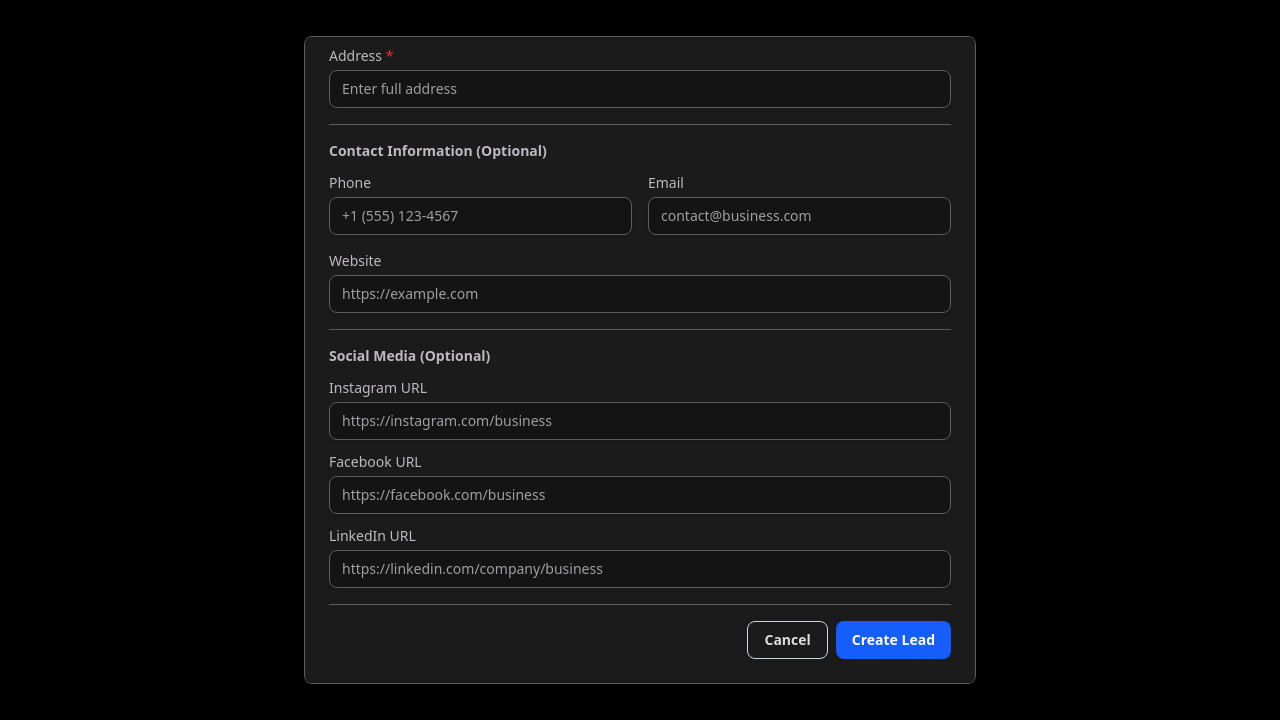
ManualLeadForm › should validate required fields
(page scrolled)
Click the button "Create Lead" at x=893, y=640, box [836,621,951,659]
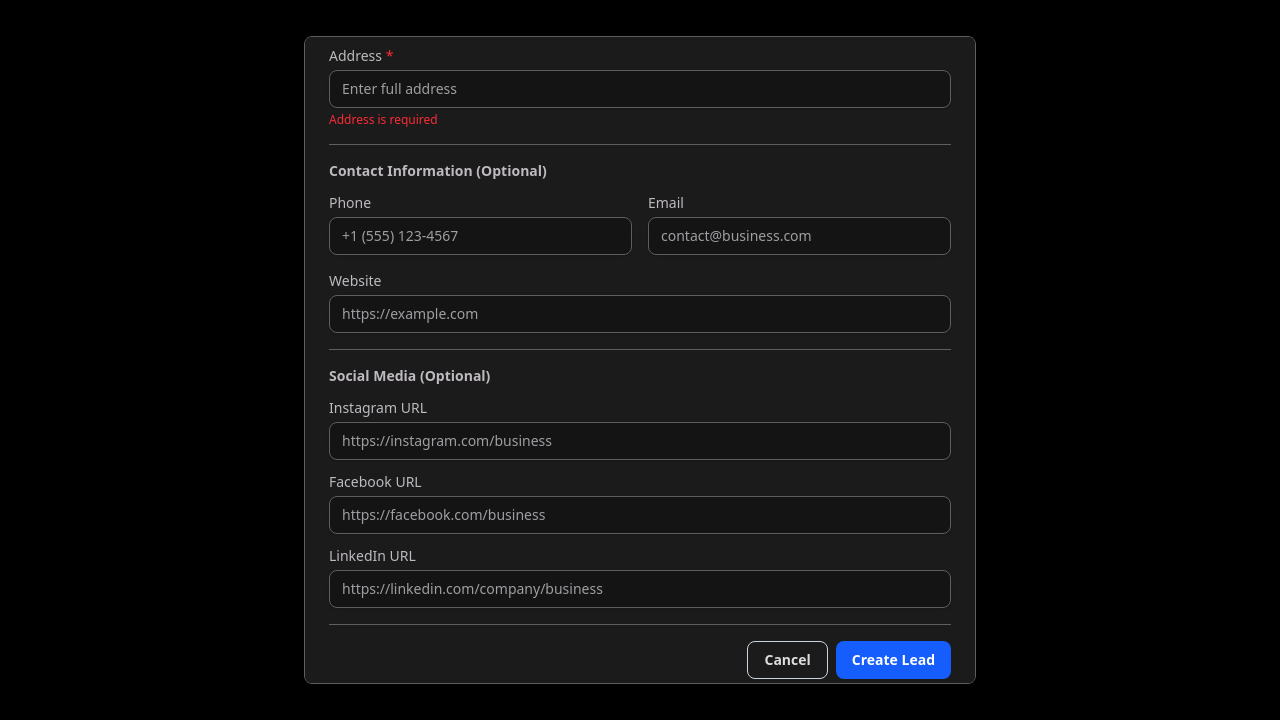
Expected: the text "Address is required" is shown, [329,111,438,128]
